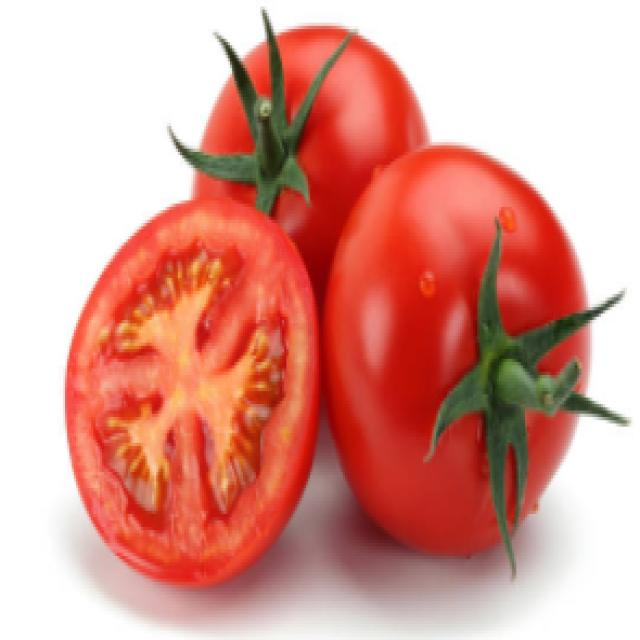Tomato: (332, 164, 622, 572), (68, 222, 322, 577), (186, 30, 424, 274)
